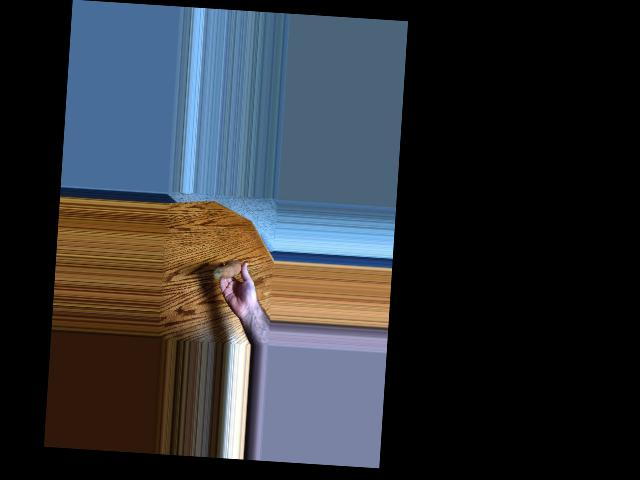sweet_potato: (212, 262, 244, 282)
